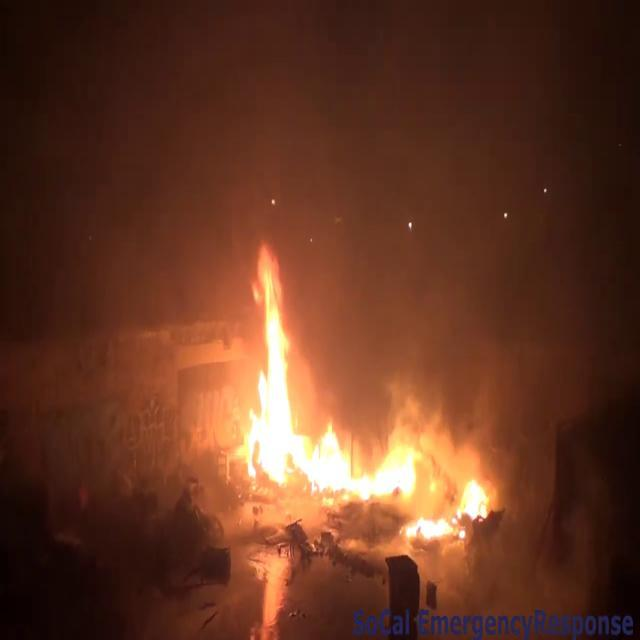Fire: (232, 245, 488, 535)
